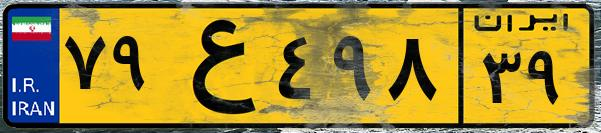3: (475, 38, 525, 113)
4: (270, 28, 330, 110)
7: (57, 26, 110, 100)
8: (385, 28, 445, 110)
9: (330, 28, 385, 110), (525, 38, 570, 115), (110, 28, 158, 98)
ع: (158, 12, 270, 120)
